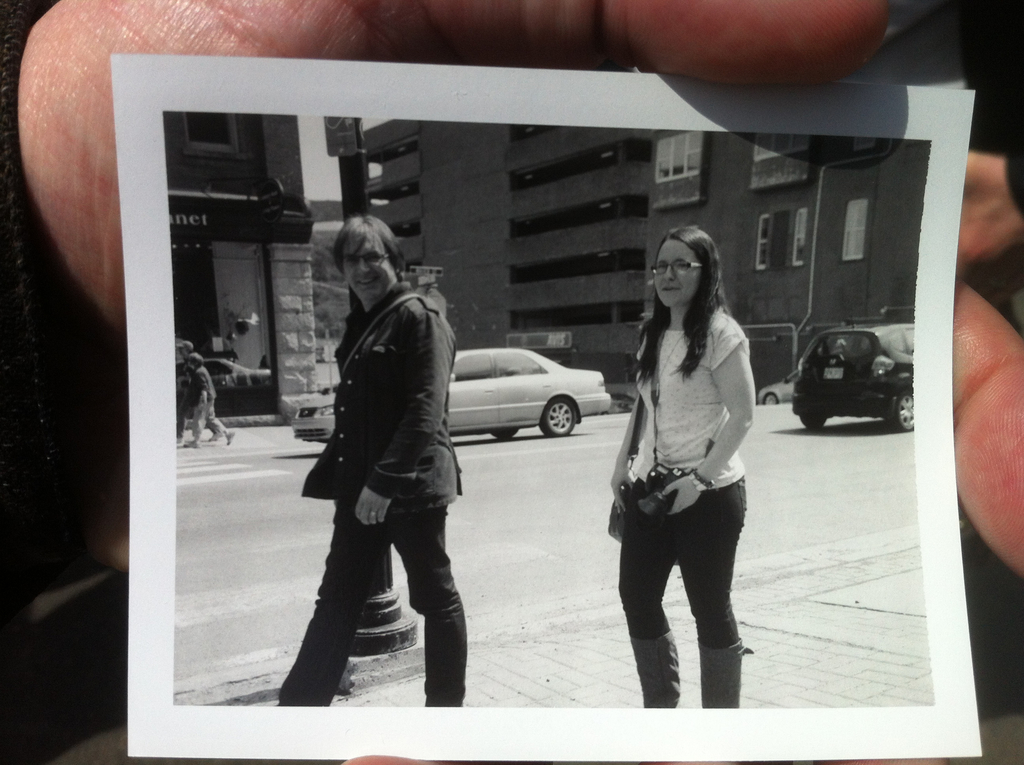Car: (293, 345, 613, 439), (792, 325, 916, 425), (758, 378, 791, 404)
